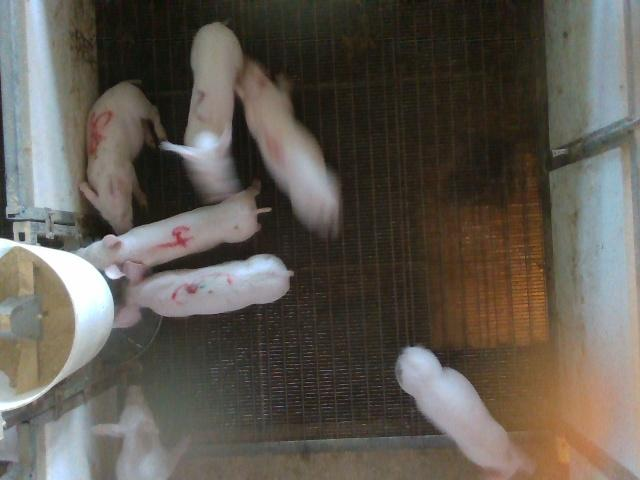pig-1: (236, 59, 340, 237)
pig-2: (161, 22, 244, 203)
pig-3: (114, 255, 292, 327)
pig-4: (75, 182, 270, 278)
pig-5: (79, 81, 166, 233)
